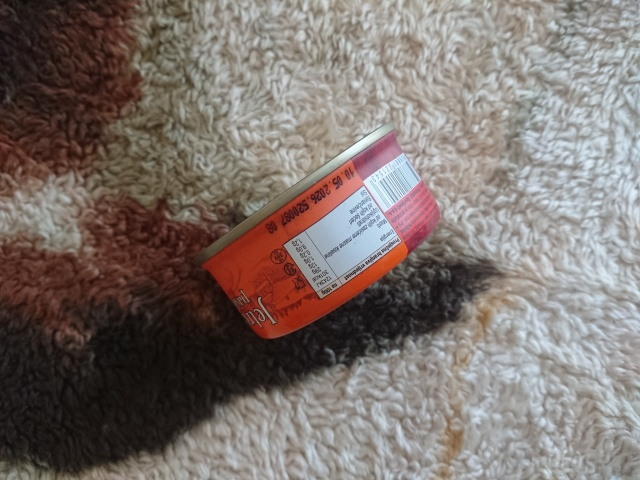Gavrilovic Pork Liver Pate 100g: (189, 118, 445, 343)
